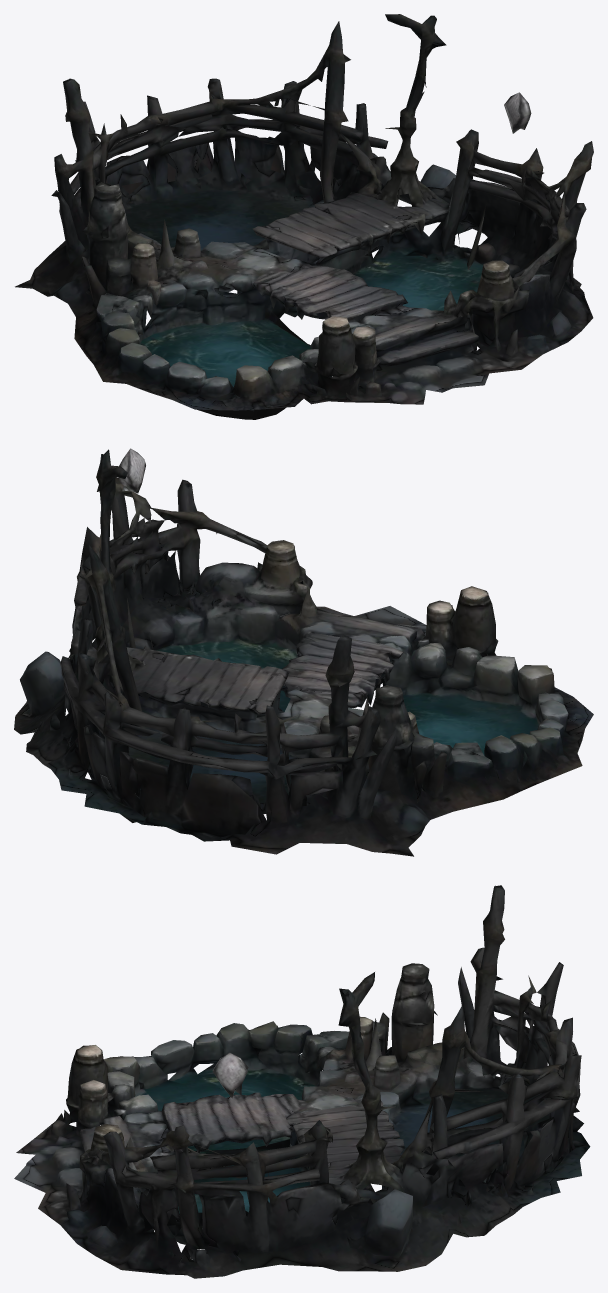
Rendered from leech_pits.glb.
The picture shows the model from 3 angles, top to bottom: view 1: azimuth 30°, elevation 25°; view 2: azimuth 150°, elevation 25°; view 3: azimuth 270°, elevation 25°; orthographic projection. The views are drawn at different scales.
Visible parts, largest first — view 1: geometry_0; view 2: geometry_0; view 3: geometry_0.
Part boxes in pixels (x1=…): geometry_0: x1=15, y1=14, x2=593, y2=419; geometry_0: x1=14, y1=448, x2=593, y2=856; geometry_0: x1=14, y1=885, x2=590, y2=1278.
Size of the model in its own units: 0.8964 by 0.5529 by 0.9098.
1 material, 1 textured.
